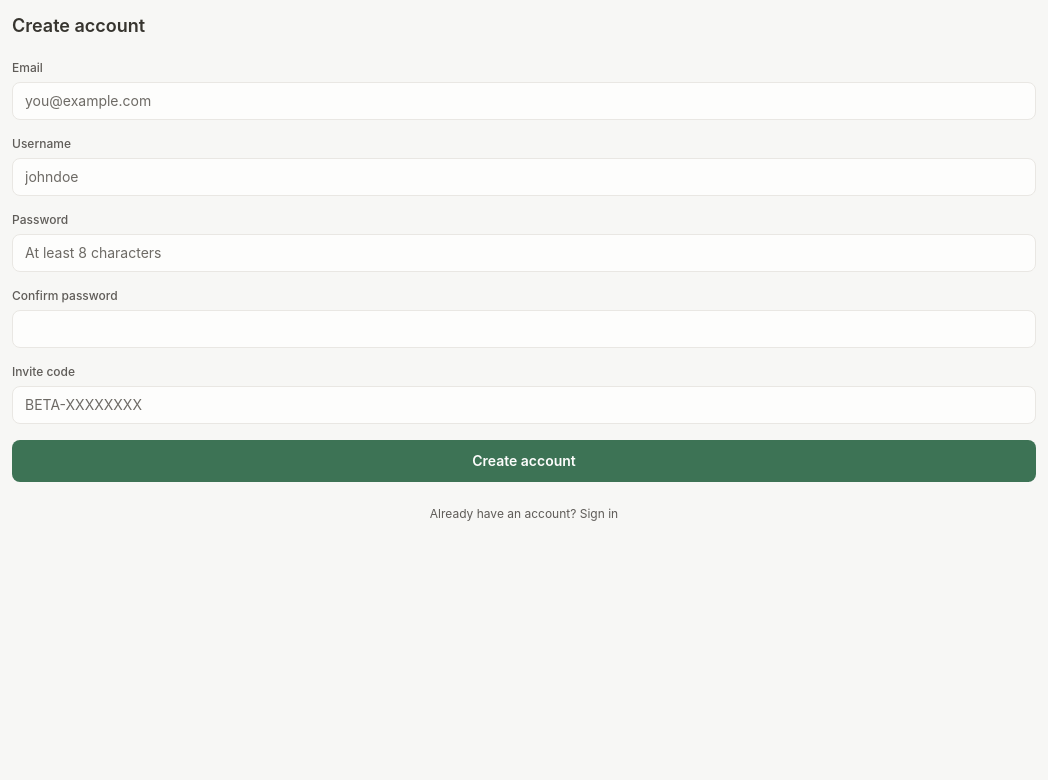
RegisterPage — invite-only registration › blocks submission when the code is missing
Type "tester@example.com" into the field labelled "Email" at coordinates (524, 101), box [12,82,1036,120]
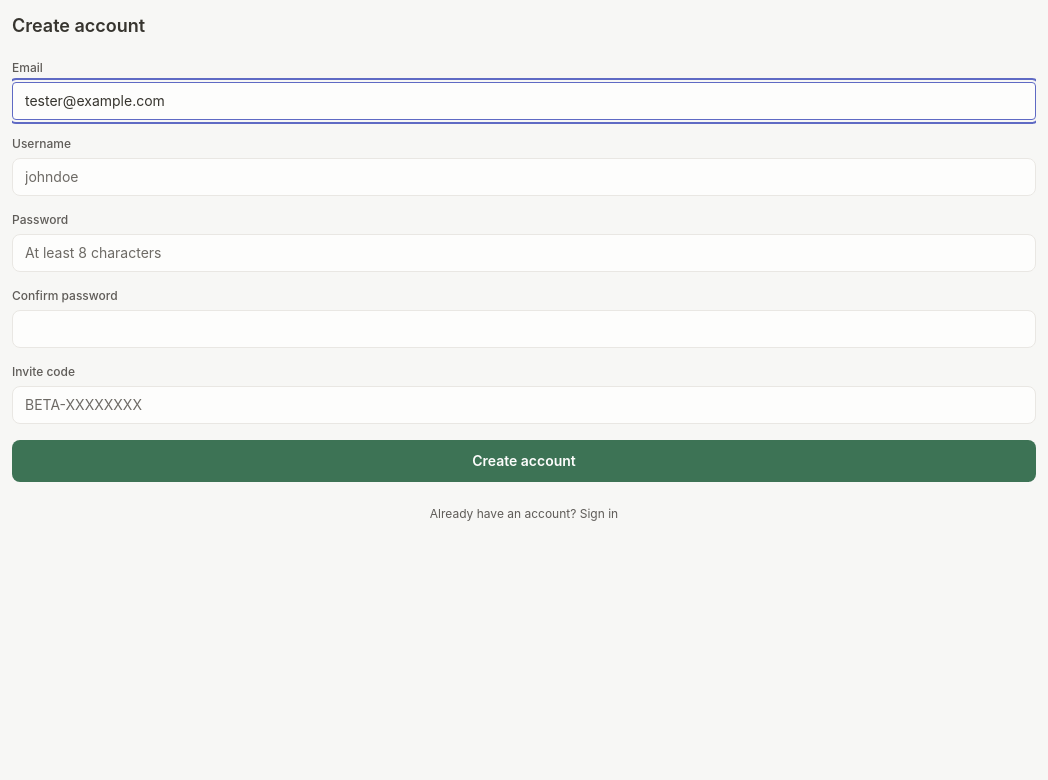
Type "tester" into the field labelled "Username" at coordinates (524, 177), box [12,158,1036,196]
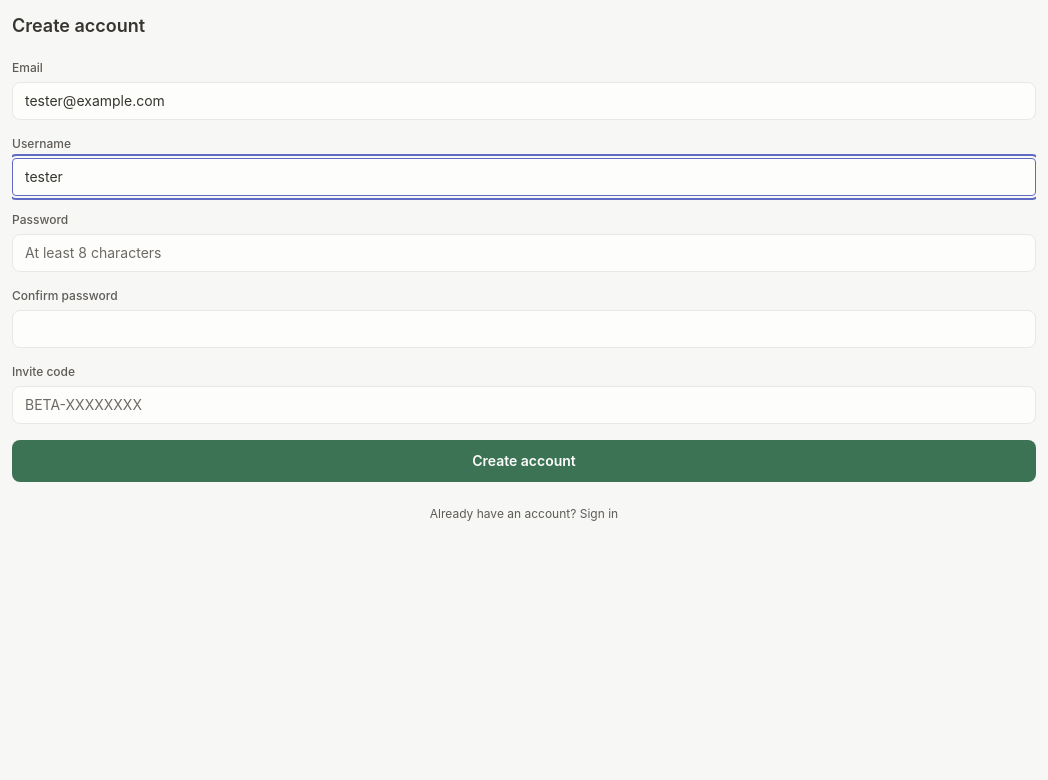
Type "TestPass1!" into the password field labelled "Password" at coordinates (524, 253), box [12,234,1036,272]
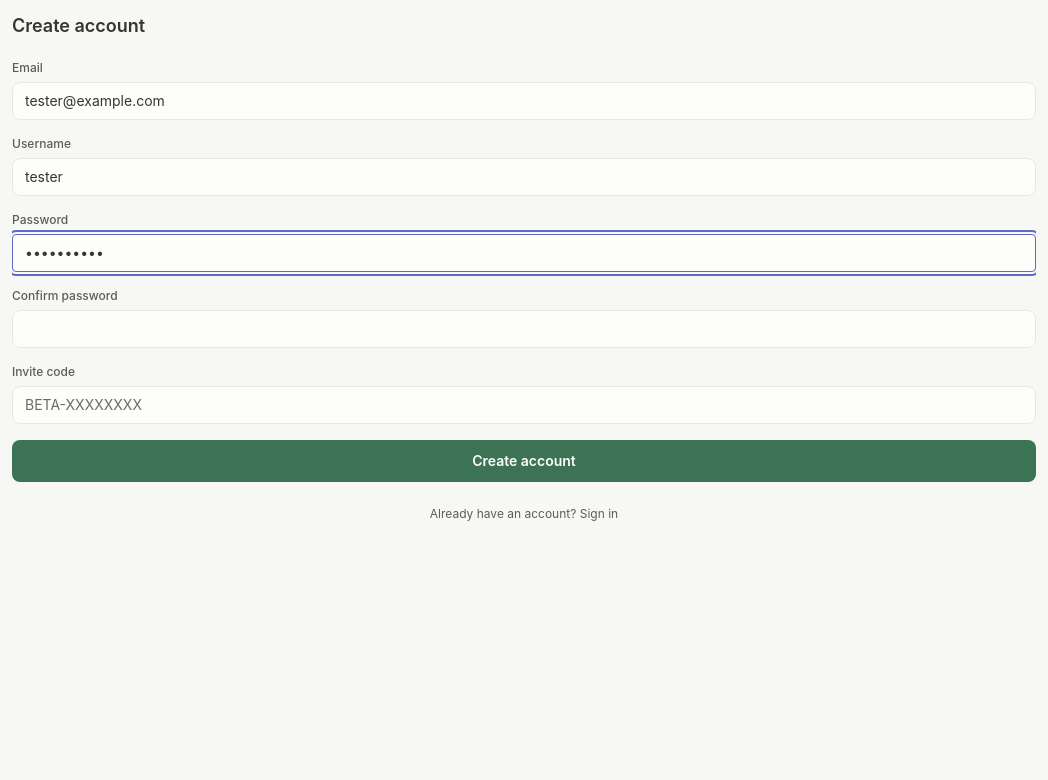
Type "TestPass1!" into the password field labelled "Confirm password" at coordinates (524, 329), box [12,310,1036,348]
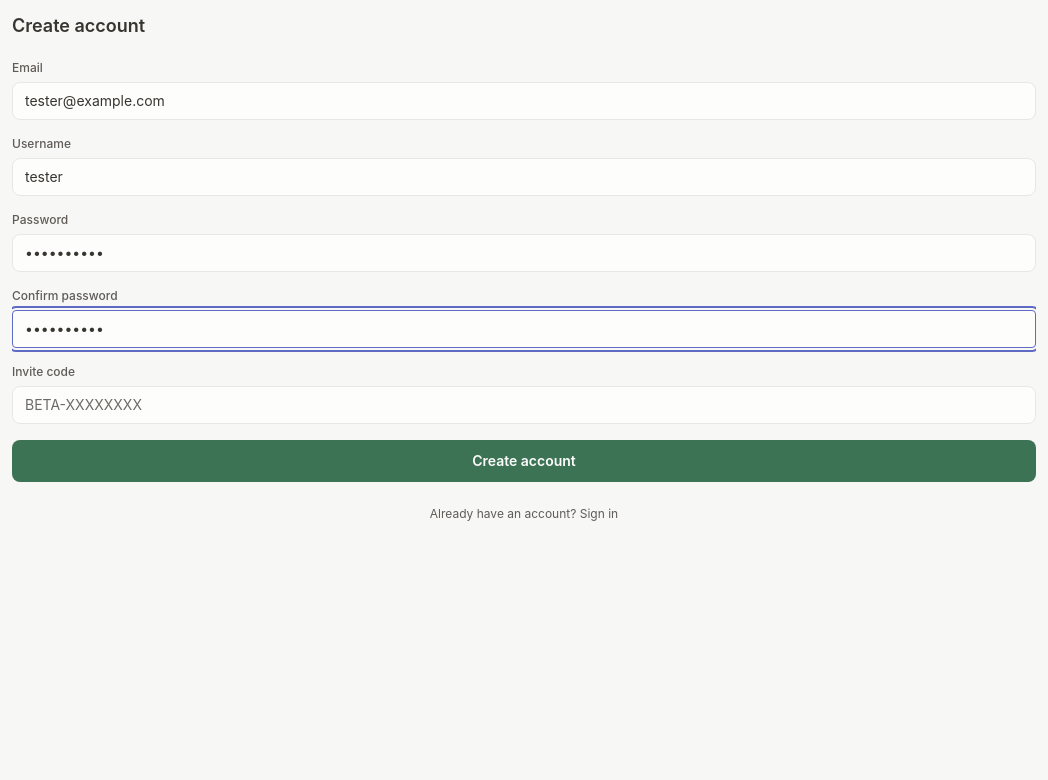
Click the button "Create account" at coordinates (524, 461), box [12,440,1036,482]
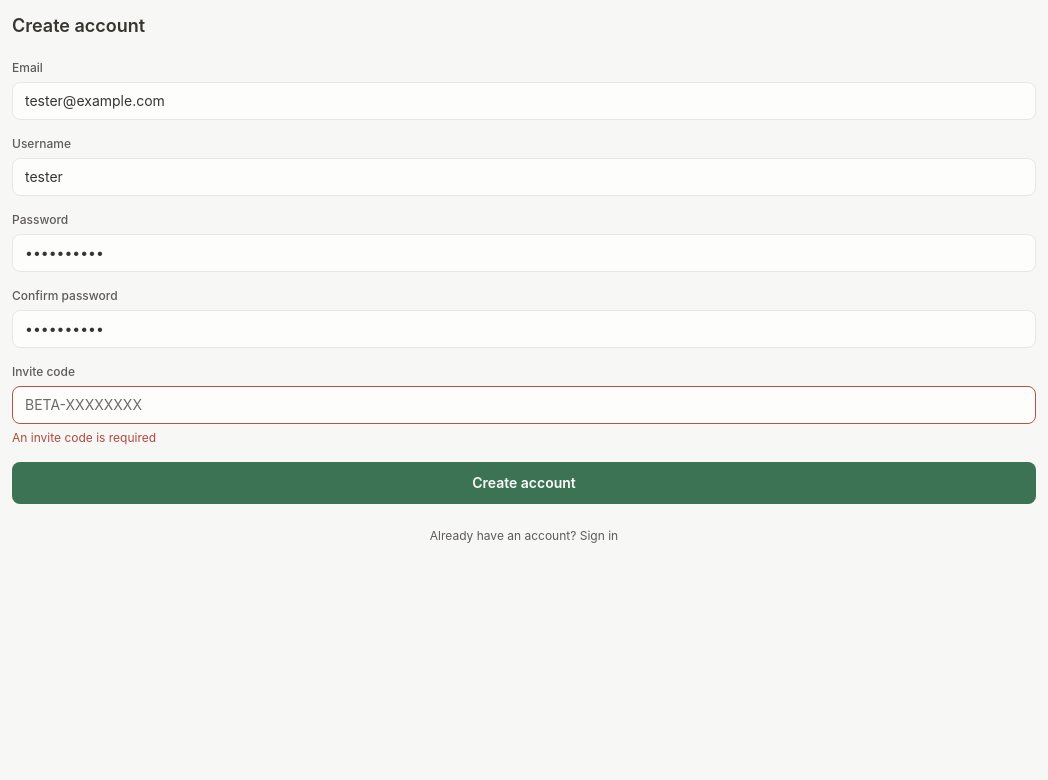
Now the text "An invite code is required" is shown, box [12,430,156,445]
